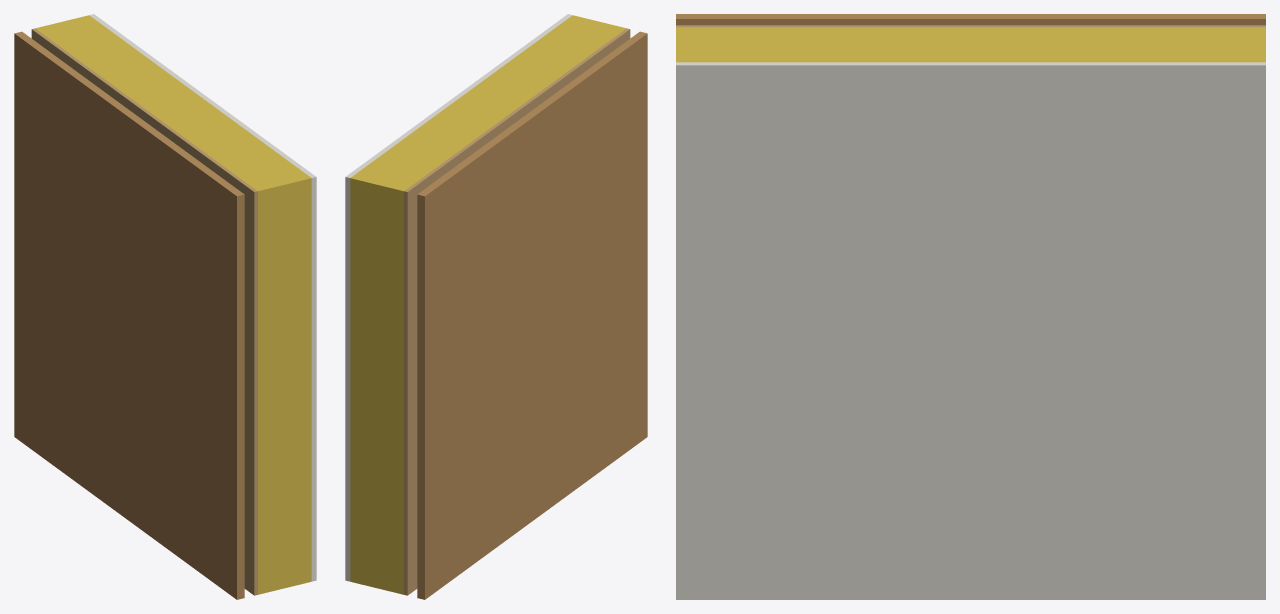
The model's file is structure.wall.timber_frame_140.glb.
3 views of the same model, side by side, from view 1: azimuth 30°, elevation 25°; view 2: azimuth 150°, elevation 25°; view 3: azimuth 270°, elevation 25° (orthographic). The views are drawn at different scales.
Visible parts, largest first — view 1: finishes__softwood, structure__mineral_wool, structure__plywood, finishes__plasterboard; view 2: finishes__softwood, structure__mineral_wool, structure__plywood, finishes__plasterboard; view 3: finishes__plasterboard, structure__mineral_wool, finishes__softwood, structure__plywood.
Part boxes in pixels (<box>): finishes__softwood: <box>14,31,244,599</box>; structure__mineral_wool: <box>35,15,311,594</box>; structure__plywood: <box>31,28,257,595</box>; finishes__plasterboard: <box>89,14,316,581</box>; finishes__softwood: <box>417,31,647,599</box>; structure__mineral_wool: <box>350,15,626,594</box>; structure__plywood: <box>404,28,630,595</box>; finishes__plasterboard: <box>345,14,572,581</box>; finishes__plasterboard: <box>676,62,1265,599</box>; structure__mineral_wool: <box>676,27,1265,62</box>; finishes__softwood: <box>676,14,1265,25</box>; structure__plywood: <box>676,25,1265,27</box>.
Bounding box in the file's own units: 0.2065 × 1 × 1.
